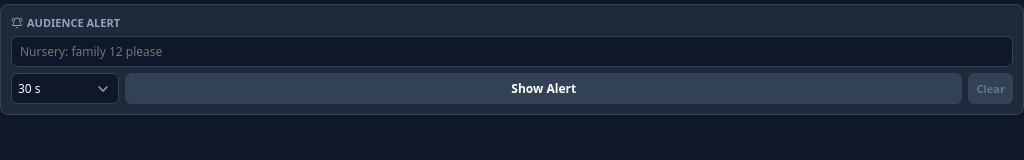
AudienceAlertControl › shows the error when the alert is rejected
Type "hello" into the field with test id "input-alert-text" at [512, 52], box [11, 36, 1013, 67]
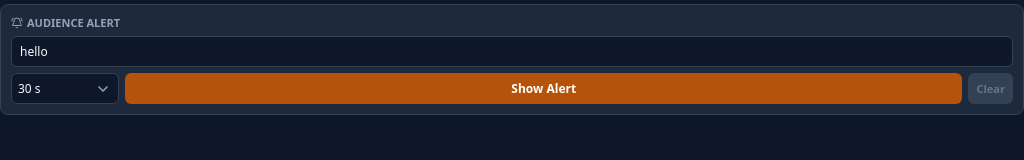
Click the button with test id "btn-send-alert" at [544, 88], box [125, 73, 962, 104]
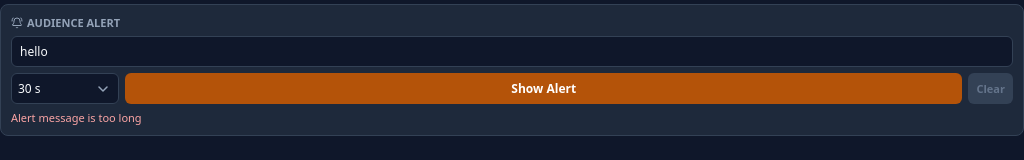
Now the message shows "too long", box [11, 110, 142, 125]
